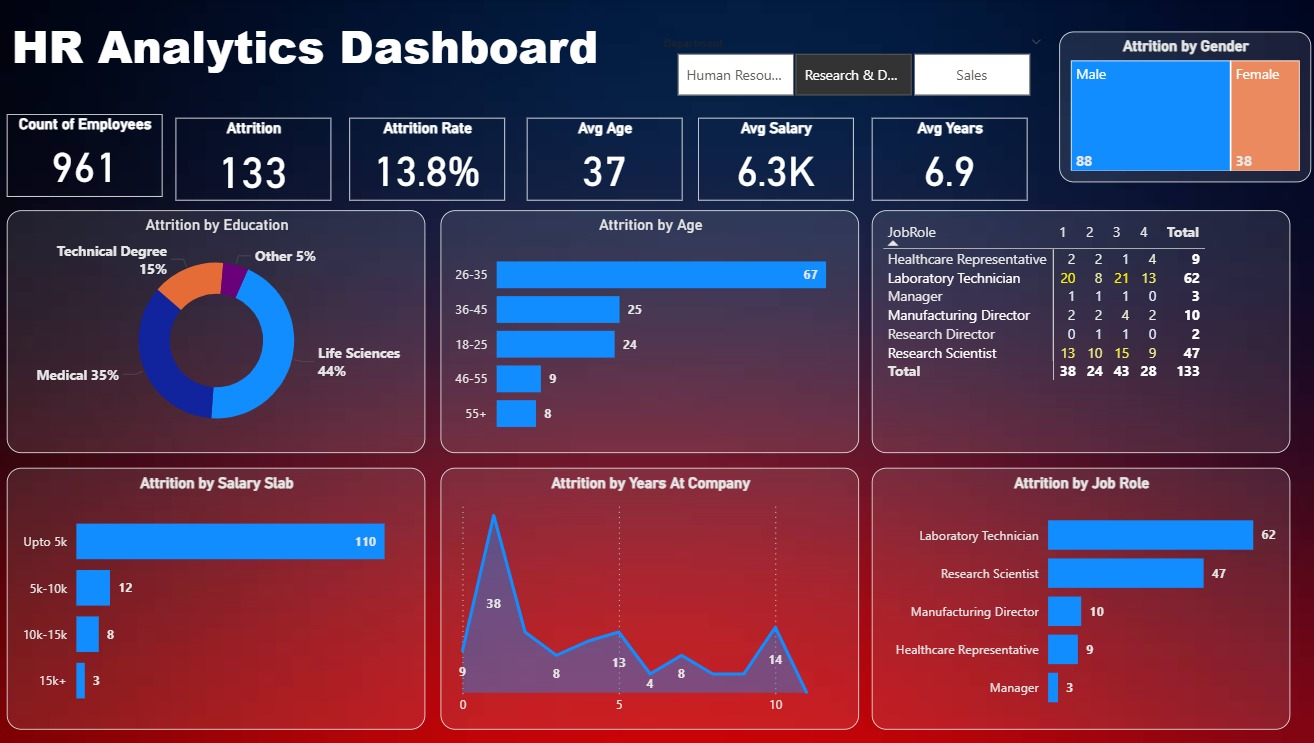

Layout of this report page (visuals, bound fields, positions):
{"tool":"powerbi","page":{"name":"Page 1","canvas":[1280,720],"ordinal":0},"visuals":[{"type":"card","title":"Count of Employees","fields":{"Values":["CountNonNull(HR_Analytics.EmpID)"]},"box":[8.6,111.4,150,80],"z":0},{"type":"card","title":"Attrition","fields":{"Values":["Sum(HR_Analytics.AttritionCount)"]},"box":[171.4,114.3,150,80],"z":1000},{"type":"card","title":"Attrition Rate","fields":{"Values":["HR_Analytics.AttrtionRate"]},"box":[338.6,114.3,150,80],"z":2000},{"type":"card","title":"Avg Age","fields":{"Values":["Avg(HR_Analytics.Age)"]},"box":[510,114.3,150,80],"z":3000},{"type":"card","title":"Avg Salary","fields":{"Values":["Avg(HR_Analytics.MonthlyIncome)"]},"box":[675.7,114.3,150,80],"z":4000},{"type":"card","title":"Avg Years","fields":{"Values":["Avg(HR_Analytics.YearsAtCompany)"]},"box":[842.9,114.3,150,80],"z":5000},{"type":"donutChart","title":"Attrition by Education","fields":{"Category":["HR_Analytics.EducationField"],"Y":["Sum(HR_Analytics.AttritionCount)"]},"box":[8.6,204.3,404.3,234.3],"z":6000},{"type":"clusteredBarChart","title":"Attrition by Age","fields":{"Category":["HR_Analytics.AgeGroup"],"Y":["Sum(HR_Analytics.AttritionCount)"]},"box":[427.1,204.3,404.3,234.3],"z":7000},{"type":"pivotTable","fields":{"Rows":["HR_Analytics.JobRole"],"Columns":["HR_Analytics.JobSatisfaction"],"Values":["Sum(HR_Analytics.AttritionCount)"]},"box":[842.9,204.3,404.3,234.3],"z":8000},{"type":"clusteredBarChart","title":"Attrition by Salary Slab","fields":{"Category":["HR_Analytics.SalarySlab"],"Y":["Sum(HR_Analytics.AttritionCount)"]},"box":[8.6,452.9,404,252.9],"z":9000},{"type":"clusteredBarChart","title":"Attrition by Job Role","fields":{"Y":["Sum(HR_Analytics.AttritionCount)"],"Category":["HR_Analytics.JobRole"]},"box":[842.9,452.9,404,252.9],"z":10000},{"type":"stackedAreaChart","title":"Attrition by Years At Company","fields":{"Category":["HR_Analytics.YearsAtCompany"],"Y":["Sum(HR_Analytics.AttritionCount)"]},"box":[427.1,452.9,404.3,252.9],"z":11000},{"type":"treemap","title":"Attrition by Gender","fields":{"Values":["Sum(HR_Analytics.AttritionCount)"],"Group":["HR_Analytics.Gender"]},"box":[1024.3,31.4,242.9,145.7],"z":12000},{"type":"textbox","box":[8.6,10,588.6,90],"z":13000},{"type":"slicer","fields":{"Values":["HR_Analytics.Department"]},"box":[630,31.4,390,68.6],"z":14000}]}

Visuals, with their boxes in screenshot pixels (x1, y1, x2, y2), scaled from the page's 1280x720 canvas onto the 1314x743 screenshot:
"Count of Employees" card: BBox(9, 115, 163, 198)
"Attrition" card: BBox(176, 118, 330, 201)
"Attrition Rate" card: BBox(348, 118, 502, 201)
"Avg Age" card: BBox(524, 118, 678, 201)
"Avg Salary" card: BBox(694, 118, 848, 201)
"Avg Years" card: BBox(865, 118, 1019, 201)
"Attrition by Education" donutChart: BBox(9, 211, 424, 453)
"Attrition by Age" clusteredBarChart: BBox(438, 211, 853, 453)
pivotTable - HR_Analytics.JobRole x HR_Analytics.JobSatisfaction: BBox(865, 211, 1280, 453)
"Attrition by Salary Slab" clusteredBarChart: BBox(9, 467, 424, 728)
"Attrition by Job Role" clusteredBarChart: BBox(865, 467, 1280, 728)
"Attrition by Years At Company" stackedAreaChart: BBox(438, 467, 853, 728)
"Attrition by Gender" treemap: BBox(1052, 32, 1301, 183)
textbox: BBox(9, 10, 613, 103)
slicer - HR_Analytics.Department: BBox(647, 32, 1047, 103)
